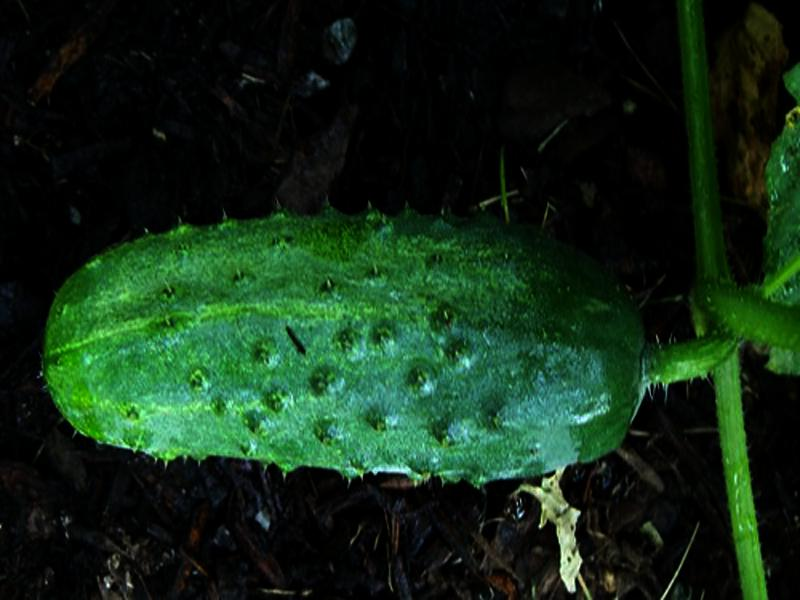Cucumber: (37, 206, 647, 482)
